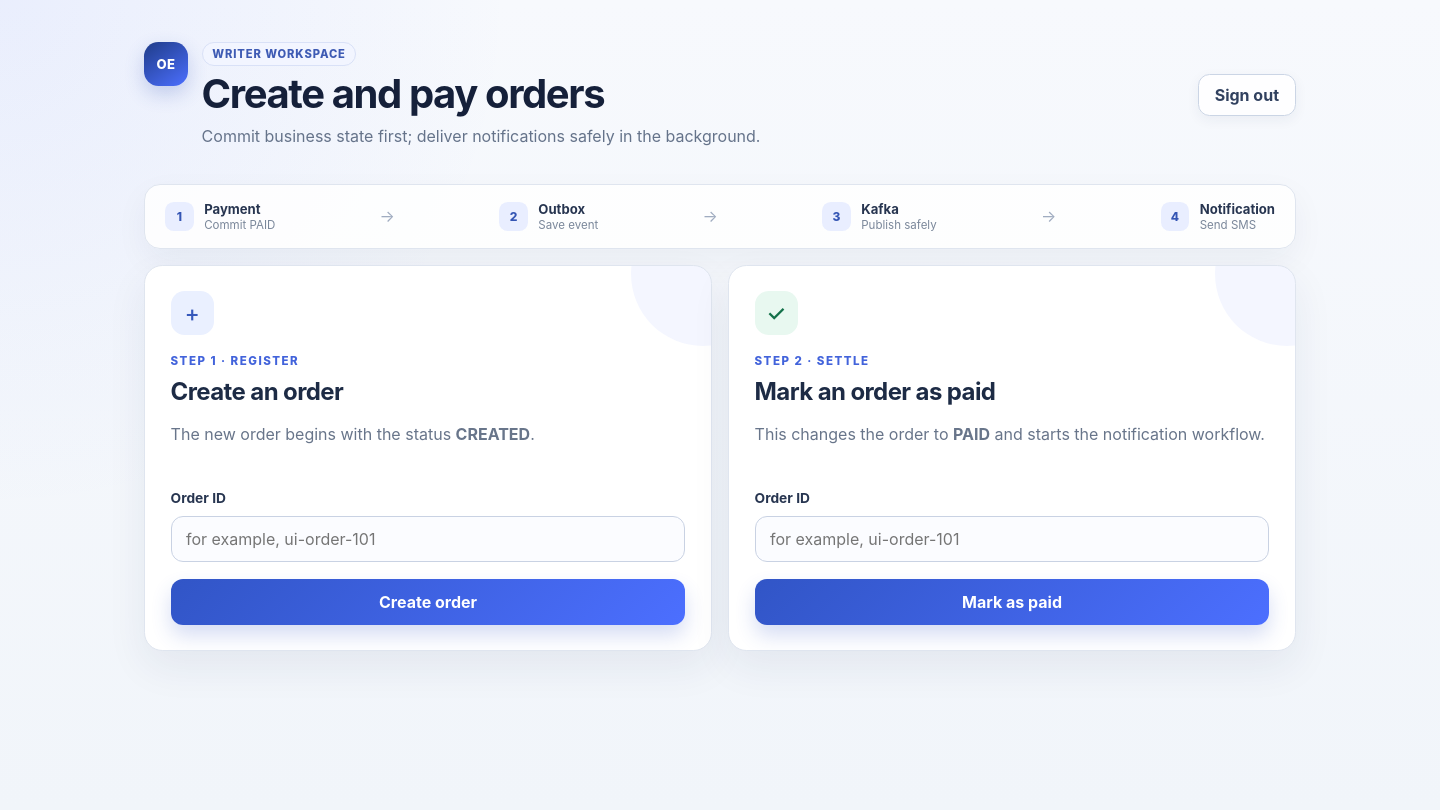
Test: WriterWorkspace › creates an order and displays its resulting status
Type "  writer-order-101  " into the field labelled "Order ID" below "The new order begins with the status" at (428, 539), box [171,516,685,562]
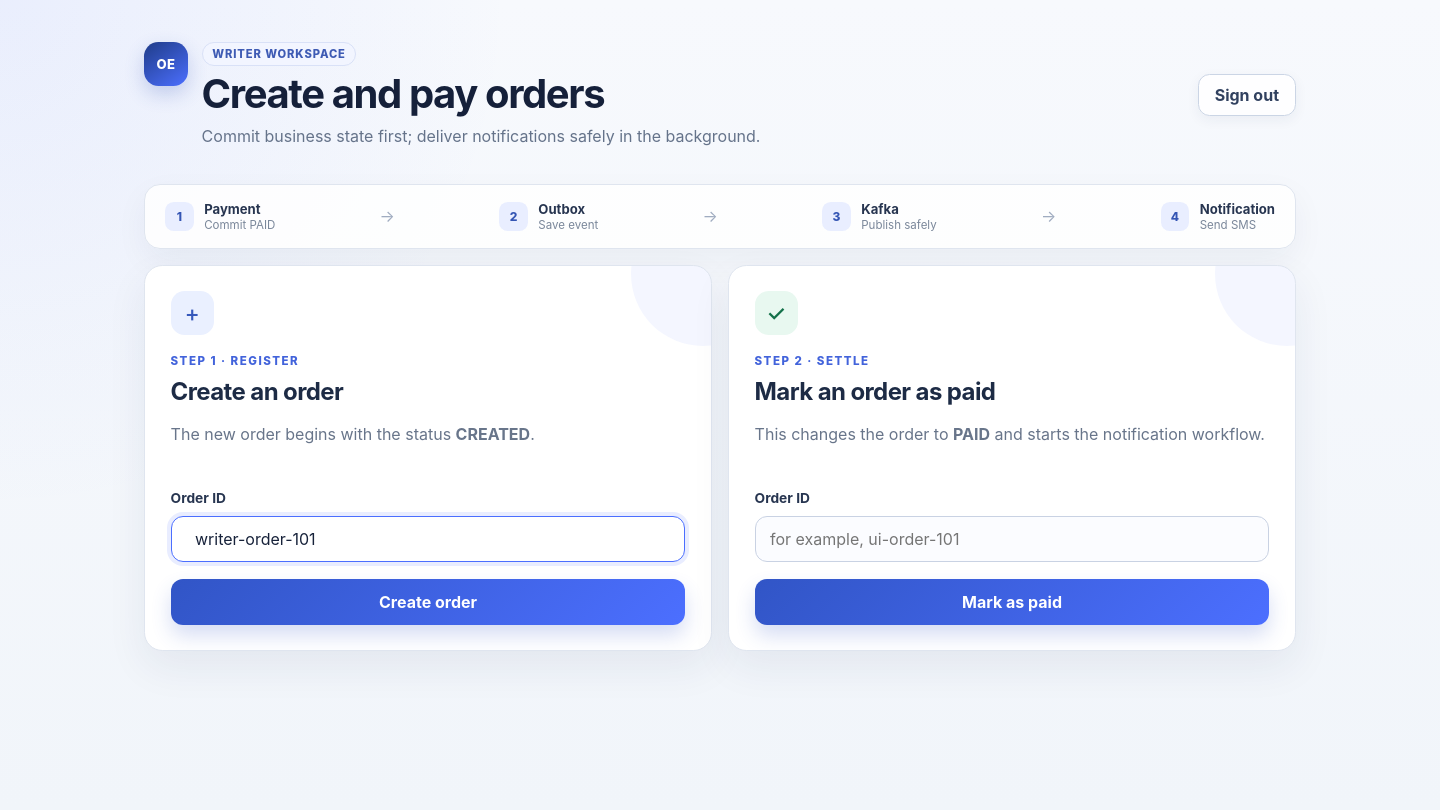
Click the button "Create order" at (428, 602), box [171,579,685,625]
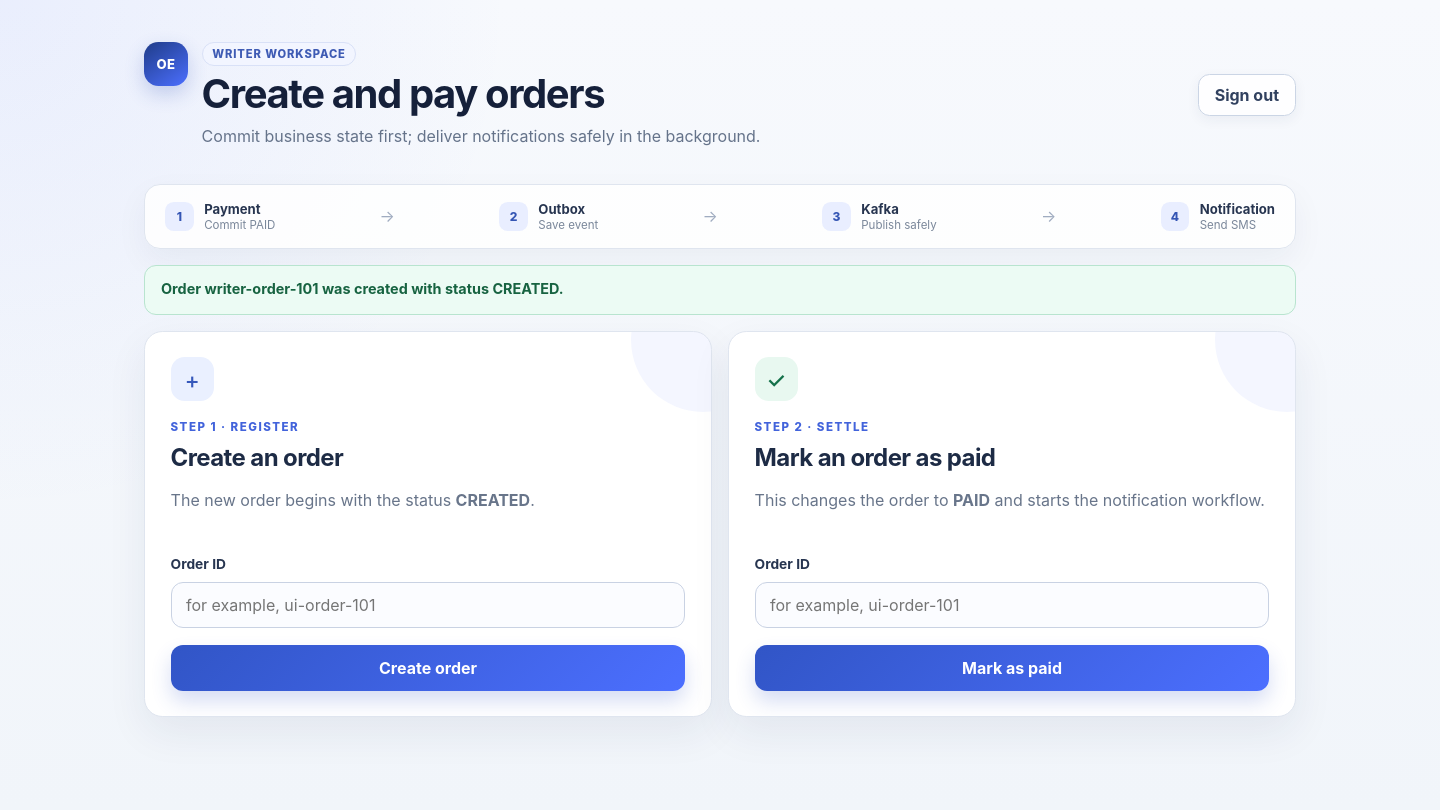
Expected: the text "Order writer-order-101 was created with status CREATED." is shown, [144,265,1296,315]
